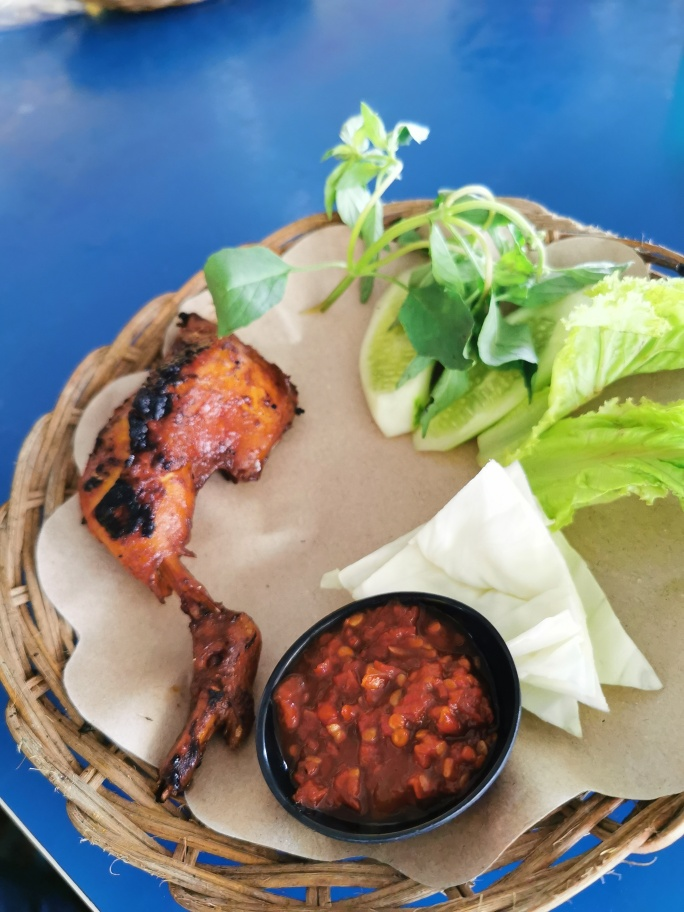ayam bakar: (67, 306, 303, 796)
